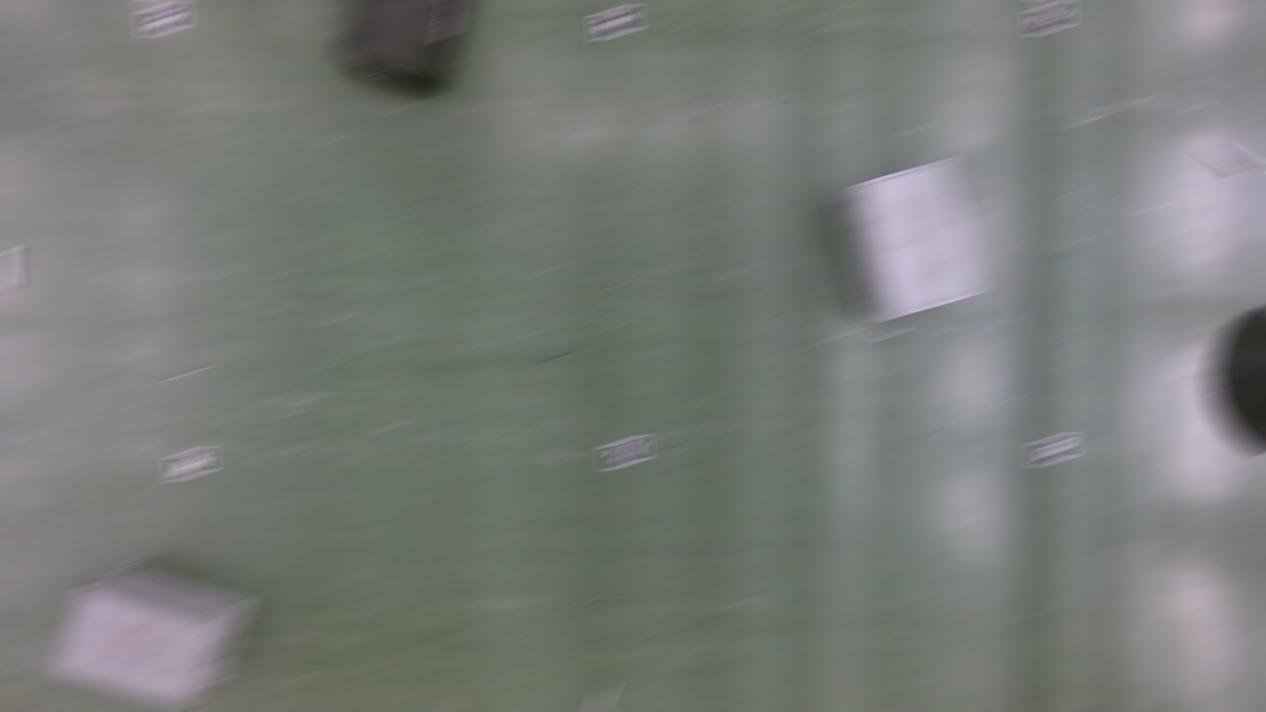probes: (1204, 146, 1252, 170), (0, 250, 17, 294), (587, 688, 613, 710)
rako: (52, 564, 248, 706), (832, 157, 984, 314), (333, 1, 472, 92)
